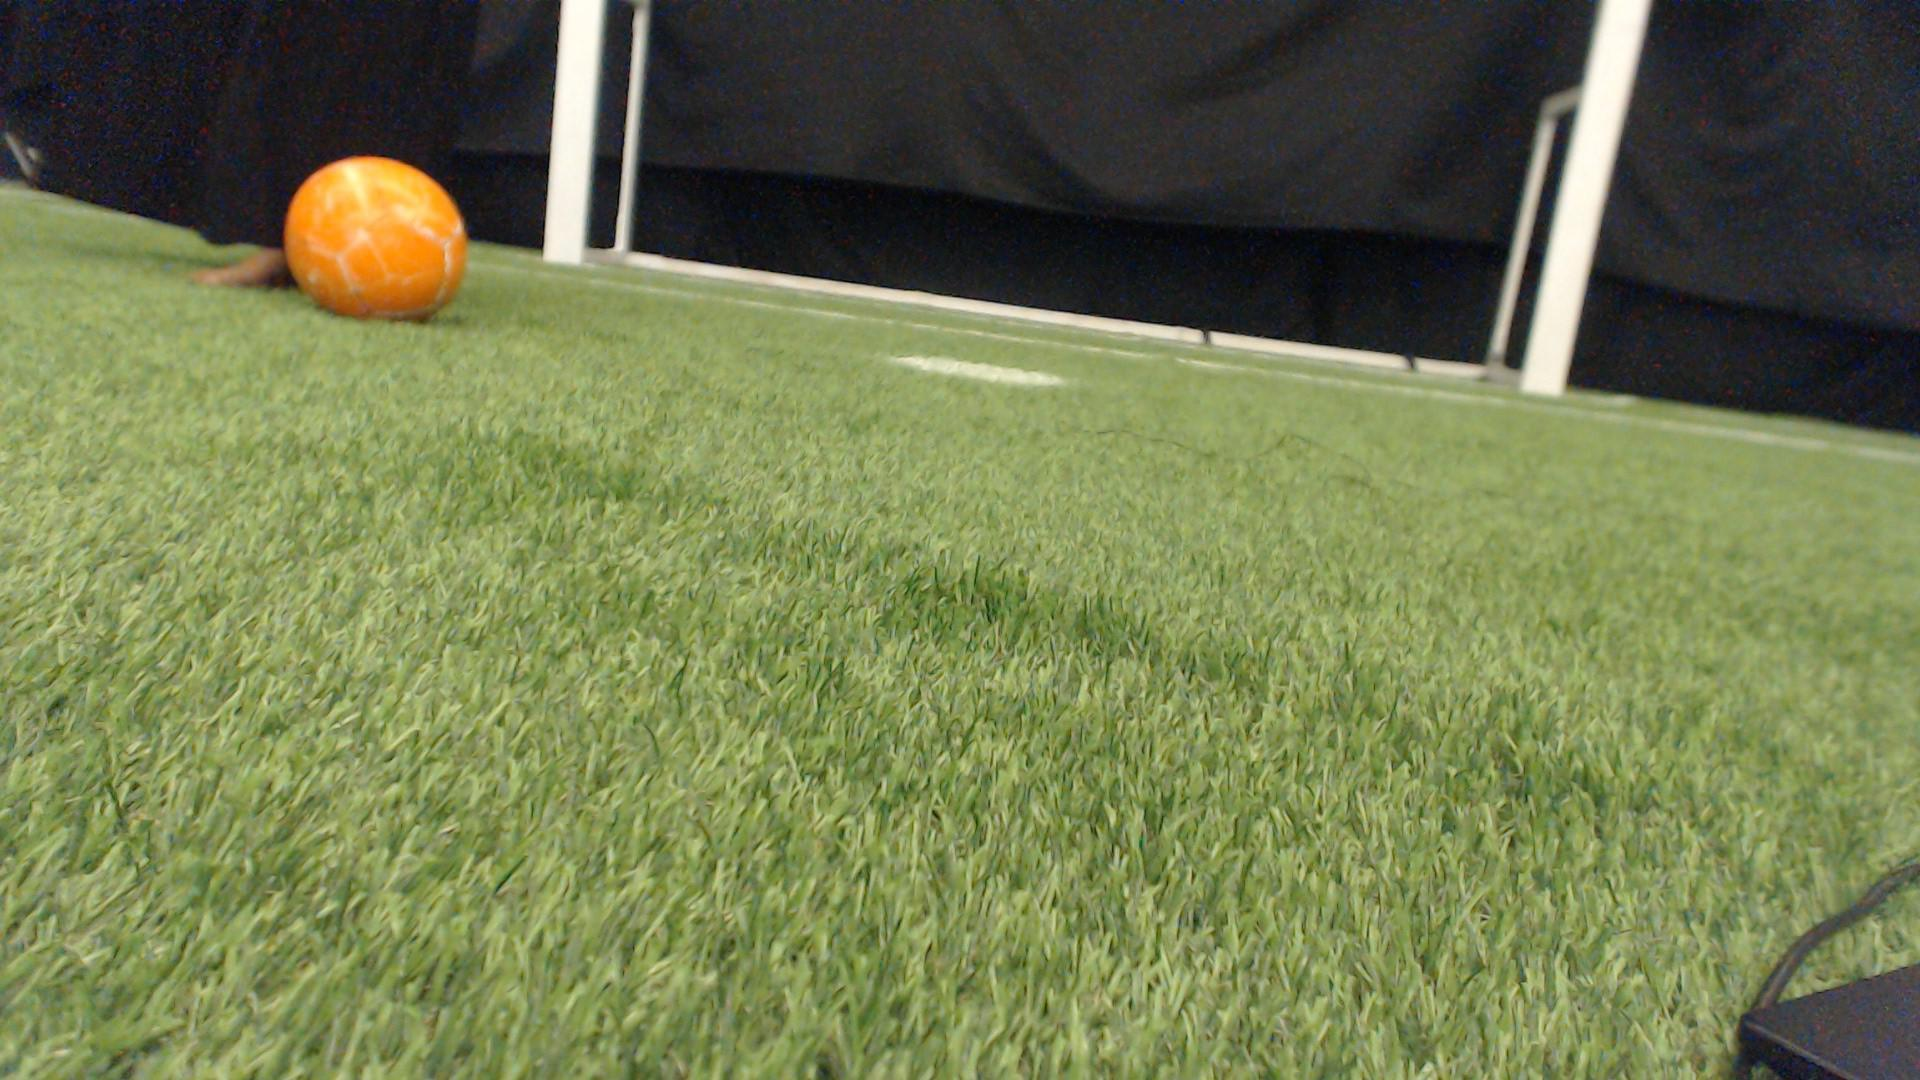bola: (272, 142, 485, 342)
